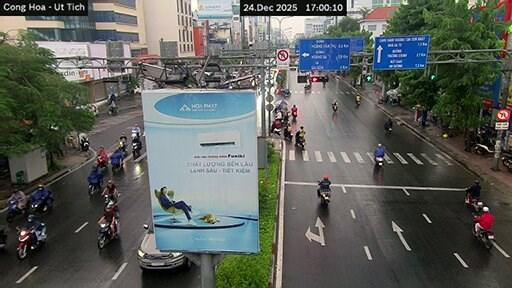motorbike: (17, 223, 46, 259), (97, 221, 116, 249), (472, 225, 494, 248), (6, 199, 27, 222), (464, 188, 483, 213), (30, 197, 52, 213), (474, 139, 494, 154), (103, 192, 119, 206), (318, 189, 330, 207), (501, 150, 511, 171), (88, 179, 101, 195), (0, 225, 7, 248), (132, 141, 141, 158), (96, 155, 107, 168), (111, 158, 121, 172), (80, 138, 89, 151), (118, 140, 126, 154), (295, 137, 305, 148), (283, 128, 292, 140), (374, 157, 383, 166), (109, 106, 118, 115), (355, 97, 361, 107), (291, 111, 297, 120), (282, 90, 291, 96), (304, 85, 311, 92), (332, 102, 337, 111), (385, 127, 391, 134), (323, 81, 325, 87)
